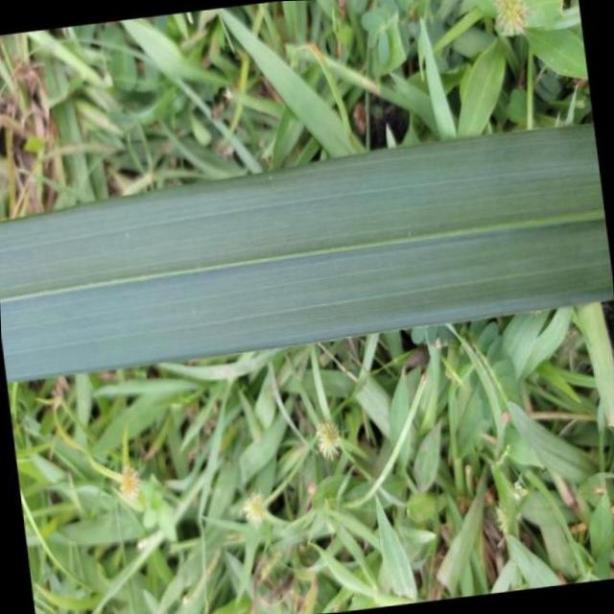Healthy: (1, 116, 614, 385)
